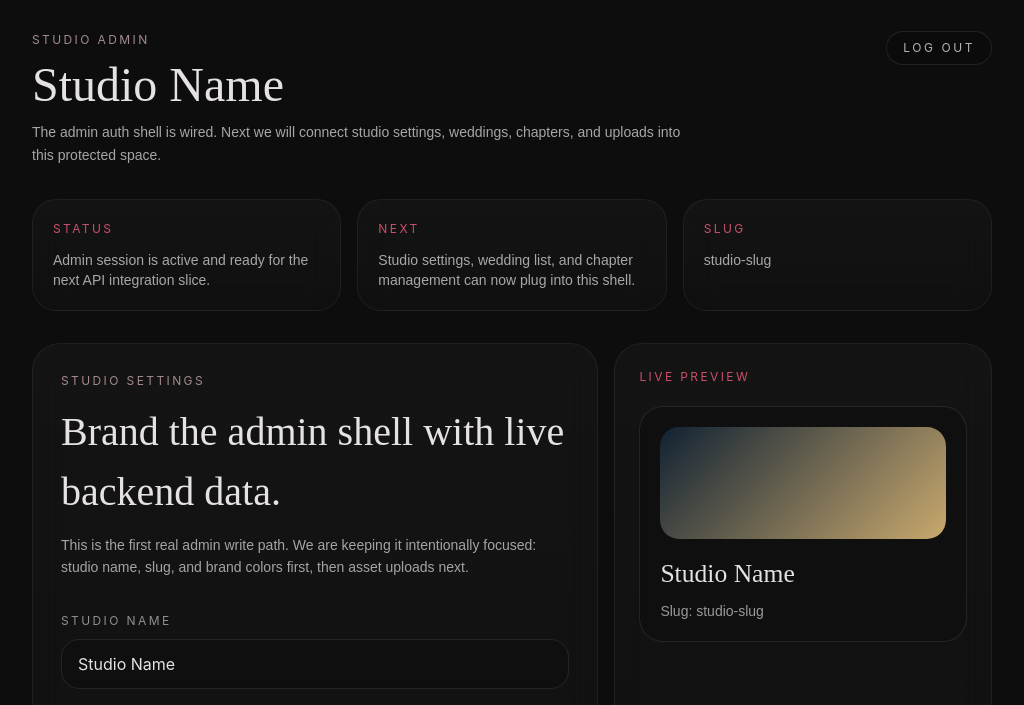
Test case: AdminDashboard › submits studio settings updates and refreshes the store
This screenshot has width=1024, height=705.
Replace the text in the field labelled "Studio Name" with "Studio Name Updated" at {"x": 315, "y": 664}, box top-left (61, 639), bottom-right (569, 689)
(page scrolled)
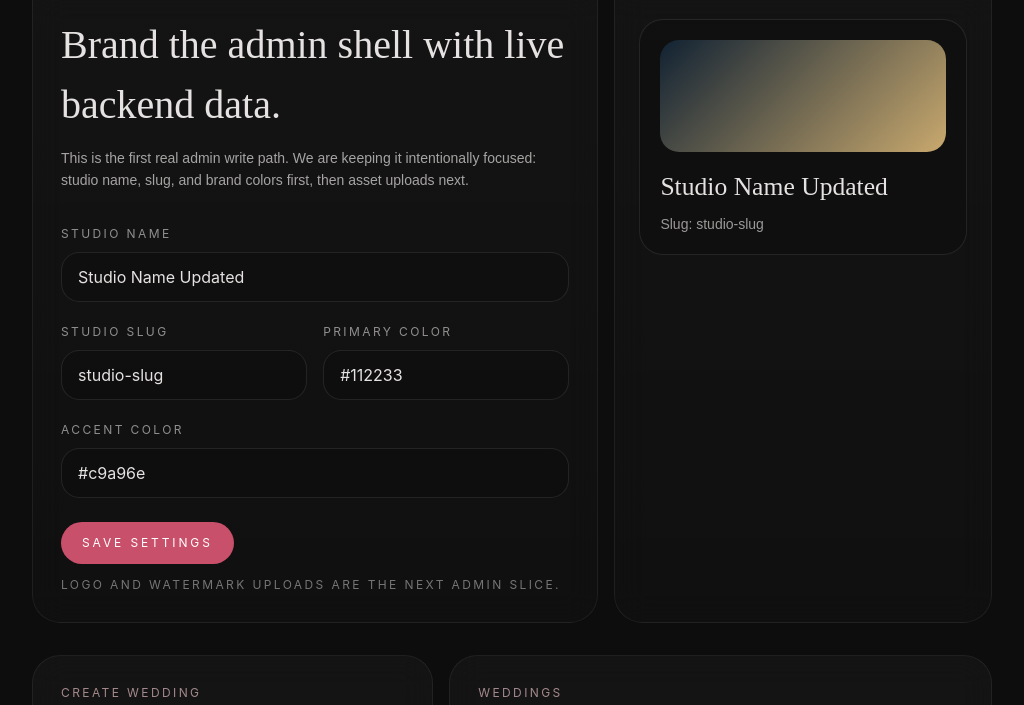
Replace the text in the field labelled "Studio Slug" with "studio-name-updated" at {"x": 184, "y": 375}, box top-left (61, 350), bottom-right (307, 400)
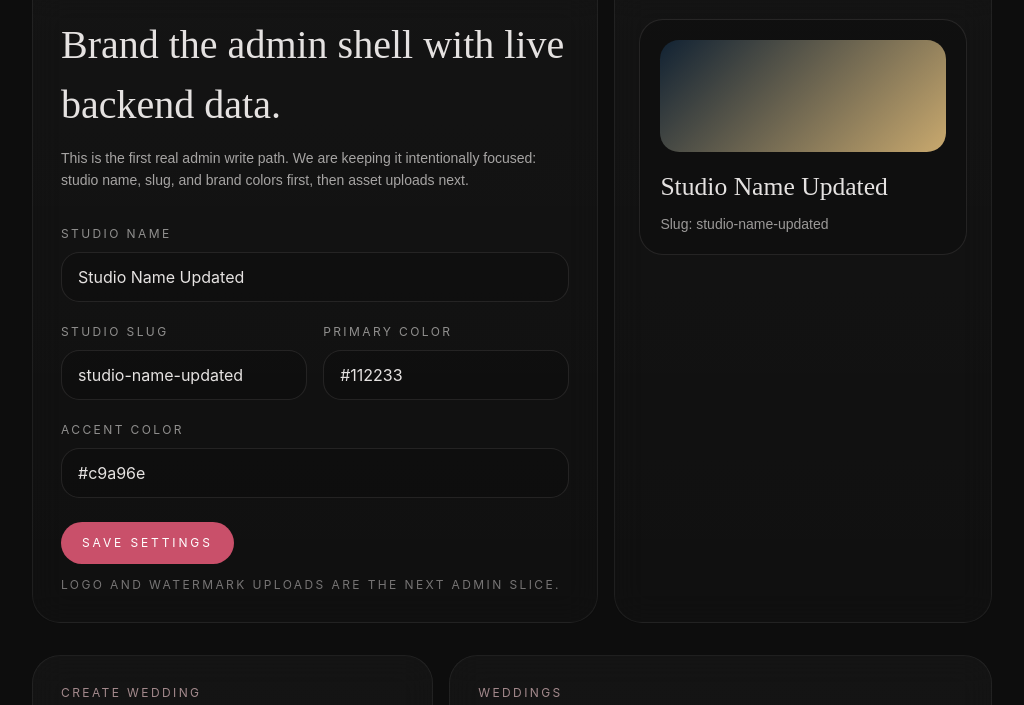
Type "#445566" into the field labelled "Primary Color" at {"x": 446, "y": 375}, box top-left (323, 350), bottom-right (569, 400)
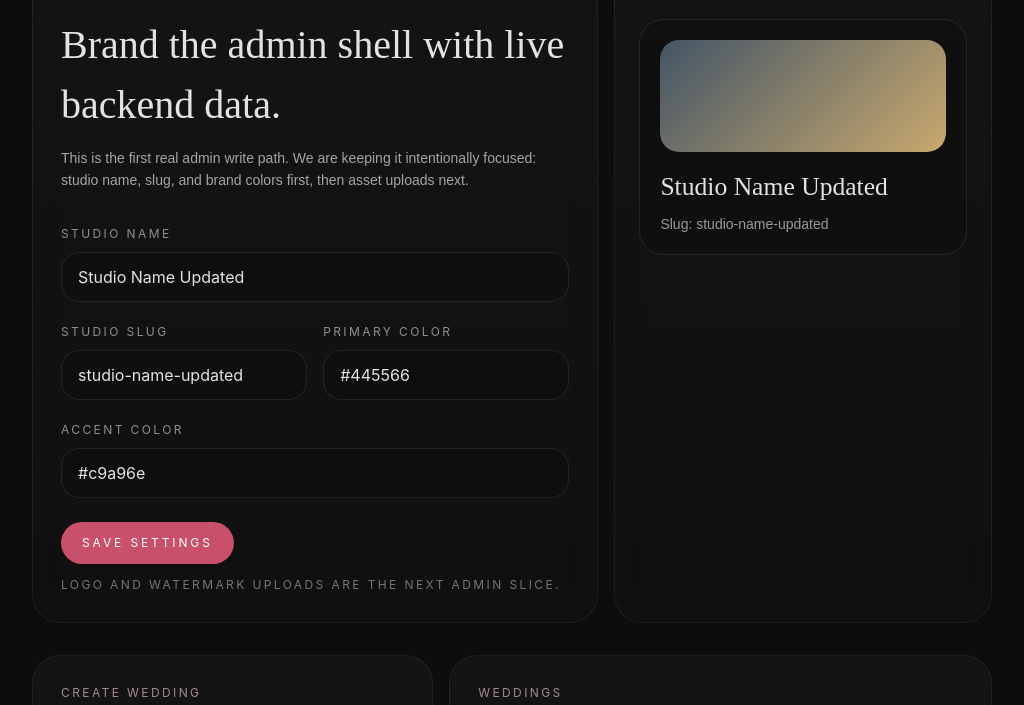
Click the button "Save Settings" at {"x": 147, "y": 543}, box top-left (61, 522), bottom-right (234, 564)
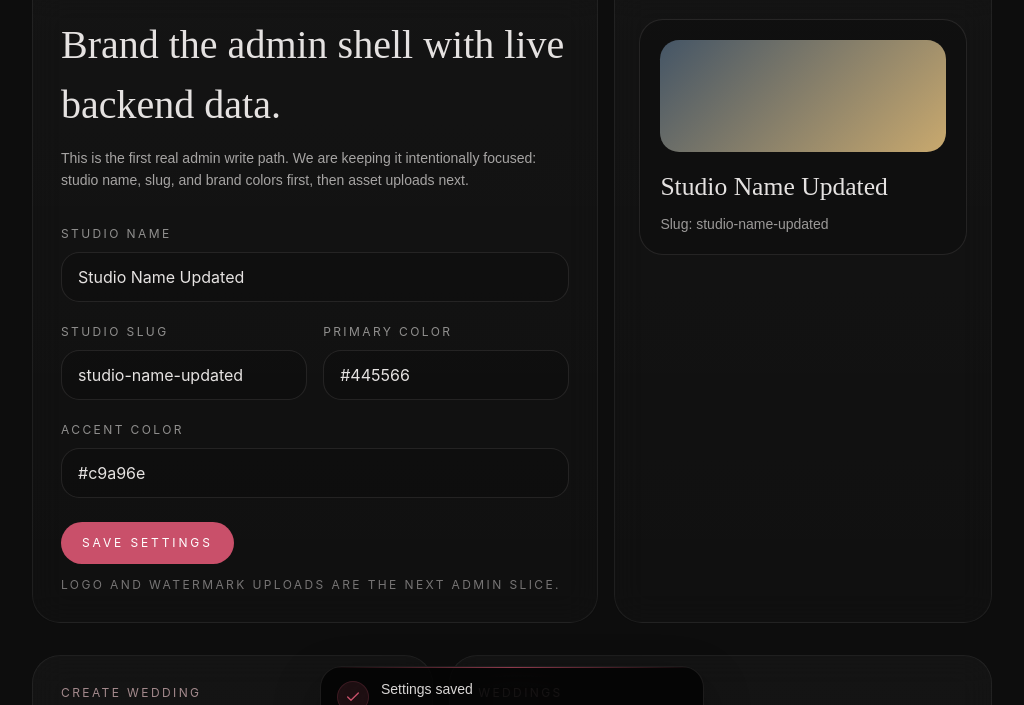
Expected: the text "Settings saved" is shown, top-left (381, 680), bottom-right (473, 696)
